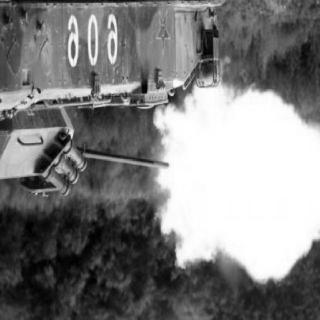Fire: (154, 67, 314, 290)
